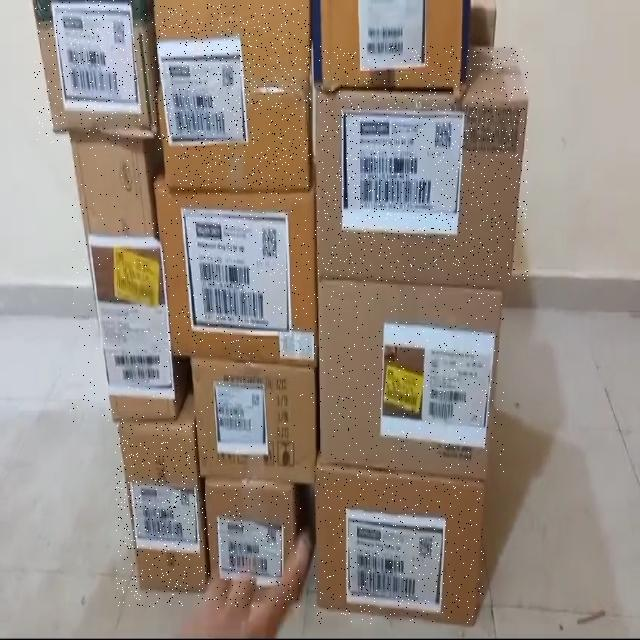BoxFace: (318, 46, 528, 281), (320, 284, 504, 474), (70, 140, 178, 424), (153, 4, 311, 198), (157, 194, 318, 365), (314, 466, 485, 624), (34, 0, 155, 145), (115, 423, 207, 607), (188, 358, 315, 481), (206, 484, 302, 609)
